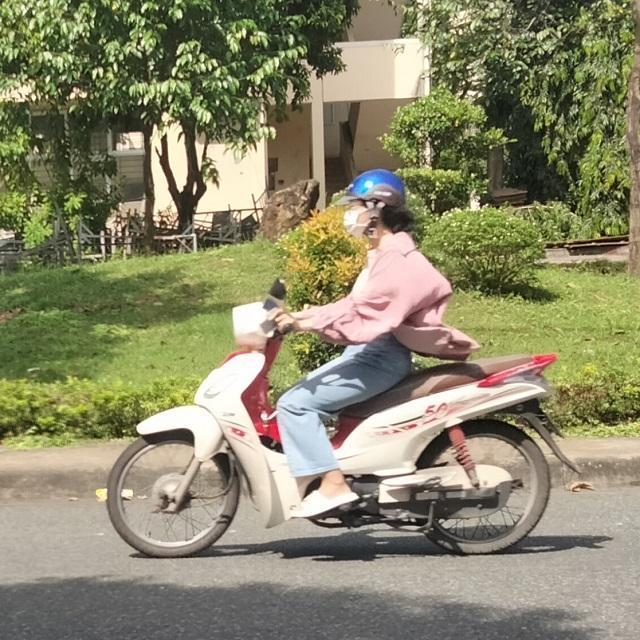Helmet: (332, 162, 412, 244)
